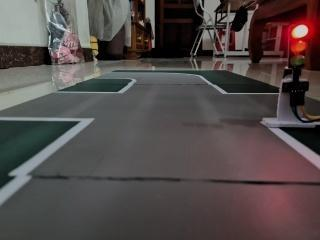red: (281, 16, 313, 83)
